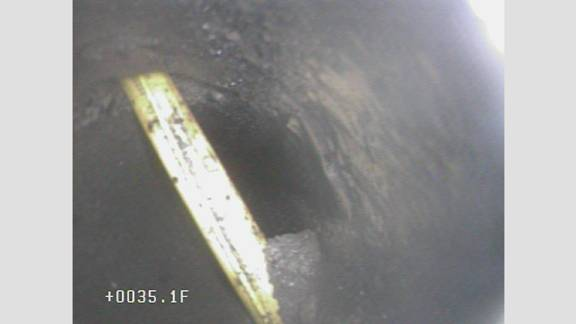cb: (118, 68, 276, 260)
